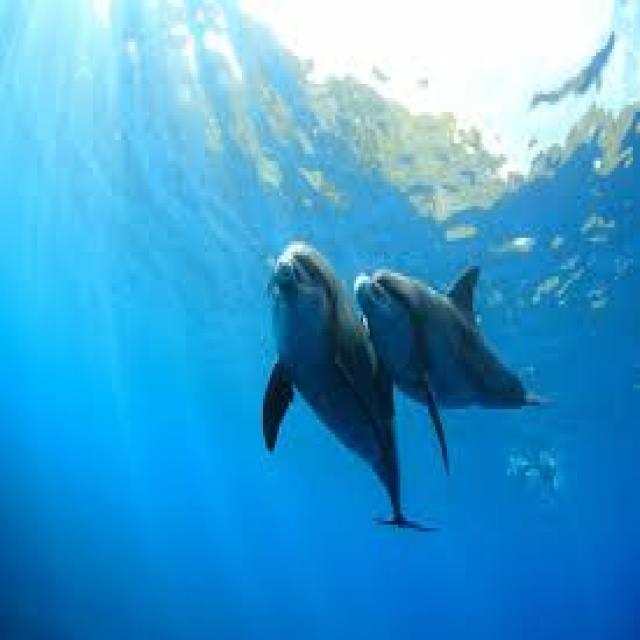dolphin: (193, 168, 444, 588), (349, 196, 554, 462)
